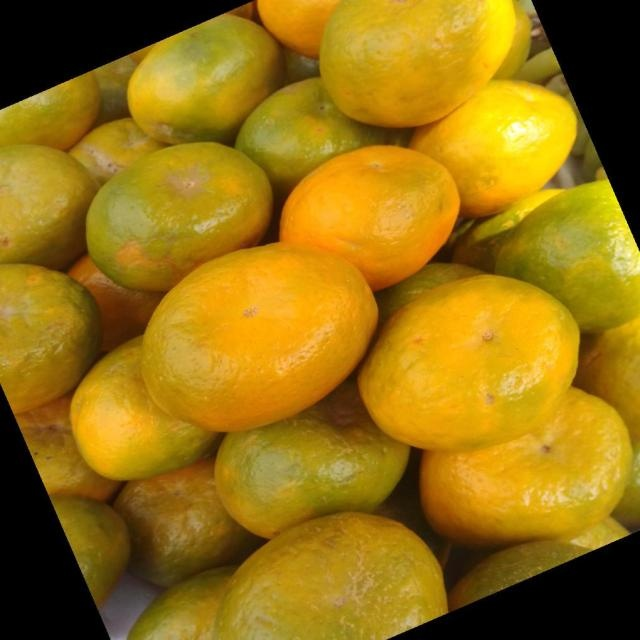agrume: (0, 0, 637, 637), (140, 240, 378, 432), (357, 272, 580, 452), (412, 357, 628, 541), (204, 512, 460, 640), (86, 141, 270, 291), (279, 143, 461, 291), (318, 0, 515, 129), (482, 182, 634, 331), (70, 334, 223, 482), (412, 80, 573, 215), (128, 15, 283, 145), (237, 78, 403, 199), (115, 462, 256, 586), (0, 263, 102, 414), (1, 143, 101, 272), (66, 255, 167, 351), (1, 71, 99, 152), (69, 118, 164, 186), (257, 0, 351, 58)
